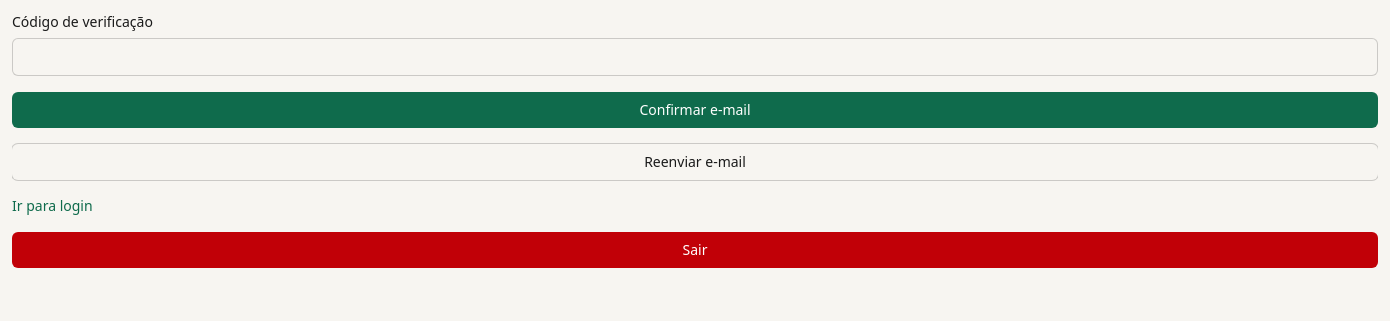
Scenario: VerifyEmailForm (EV-08–15, BFFUI-51) › shows resend confirmation on 202 (EV-14)
Click the button "Reenviar e-mail": (695,162) left=12, top=144, right=1378, bottom=180
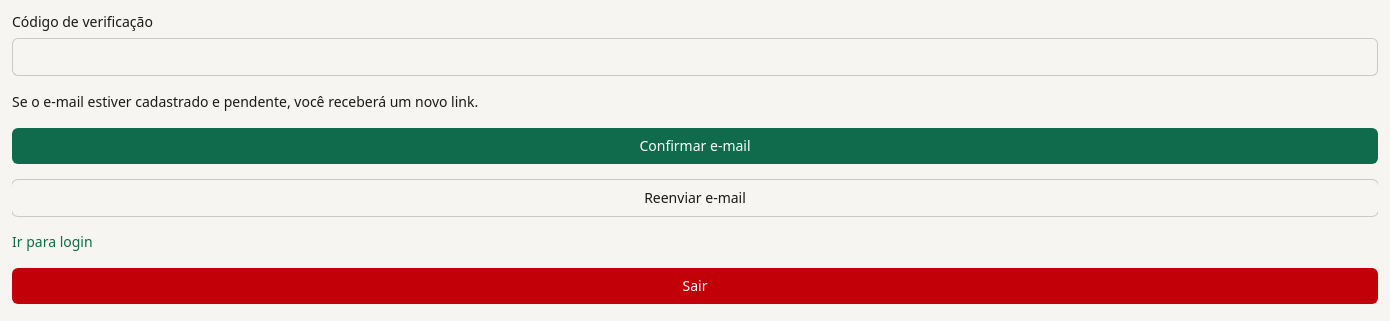
Result: the message reads "Se o e-mail estiver cadastrado e pendente, você receberá um novo link." at left=12, top=92, right=478, bottom=111
